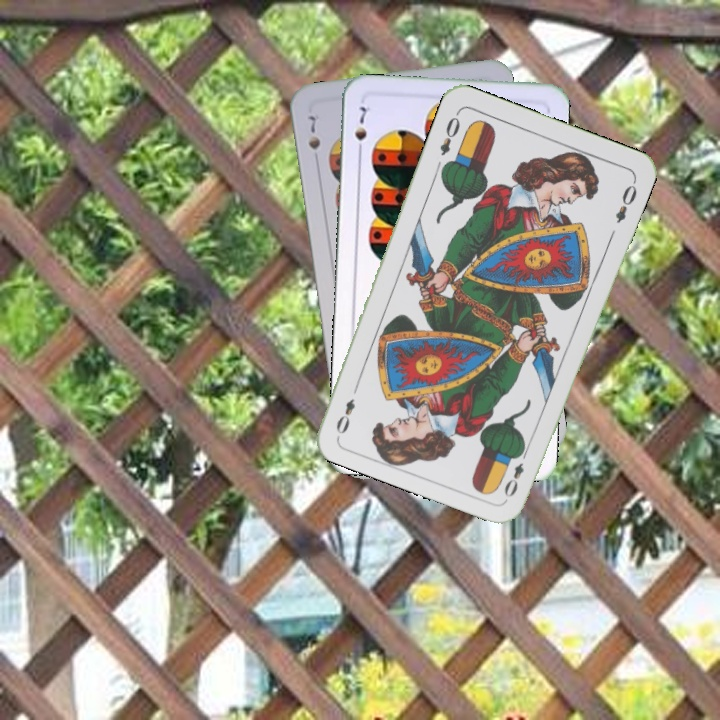EO: (500, 444, 531, 500), (435, 108, 463, 158)
S7: (351, 103, 370, 158), (304, 111, 323, 152)
